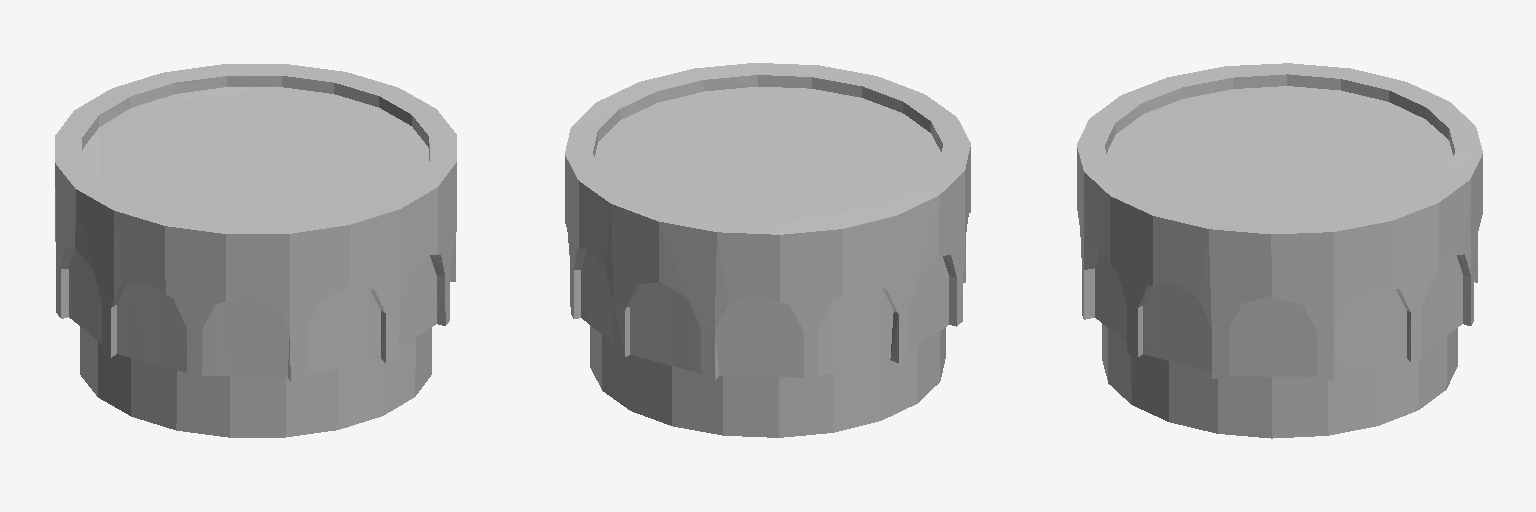
Rendered from table_10.obj.
3 views of the same model, side by side, from view 1: azimuth 30°, elevation 25°; view 2: azimuth 150°, elevation 25°; view 3: azimuth 270°, elevation 25° (orthographic).
Visible parts, largest first — view 1: Mesa1.009_Cylinder.009; view 2: Mesa1.009_Cylinder.009; view 3: Mesa1.009_Cylinder.009.
Part boxes in pixels (x1,y1,x2,y2): Mesa1.009_Cylinder.009: (55, 64, 456, 437); Mesa1.009_Cylinder.009: (565, 63, 970, 437); Mesa1.009_Cylinder.009: (1077, 63, 1482, 438).
Bounding box in the file's own units: 1.2 × 0.6999 × 1.2.